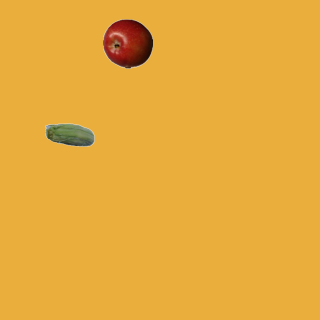Apple Braeburn: (102, 18, 152, 68)
Corn Husk: (44, 111, 94, 161)
